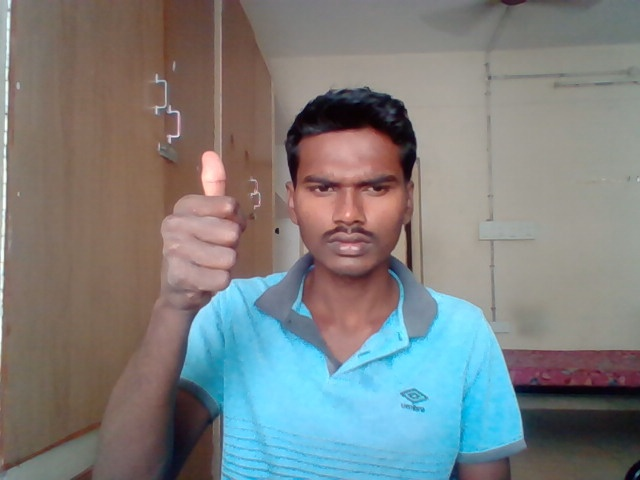Yes: (159, 152, 244, 304)
